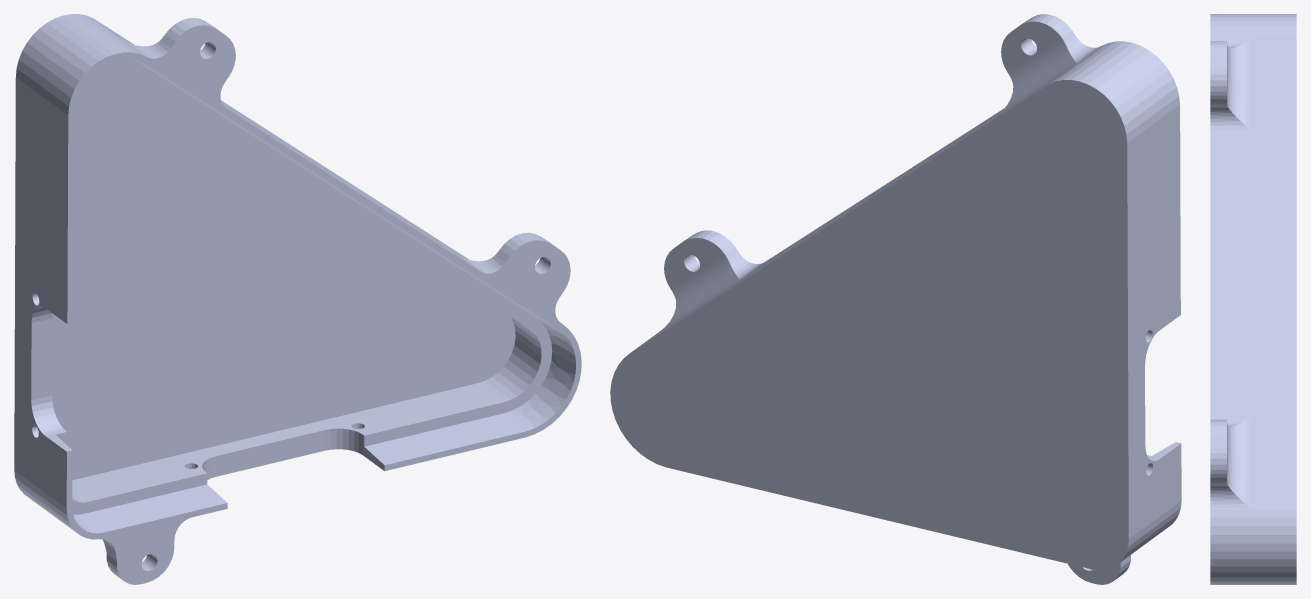
File: Upper_Part_FSM_Enclosure.glb
3 views of the same model, side by side, from view 1: azimuth 30°, elevation 25°; view 2: azimuth 150°, elevation 25°; view 3: azimuth 270°, elevation 25° (orthographic). The views are drawn at different scales.
Visible parts, largest first — view 1: world; view 2: world; view 3: world.
Part boxes in pixels (bbox=[...]): world: bbox=[14, 14, 581, 584]; world: bbox=[610, 14, 1181, 584]; world: bbox=[1210, 14, 1296, 584].
Size of the model in its own units: 146 by 148 by 25.75.
